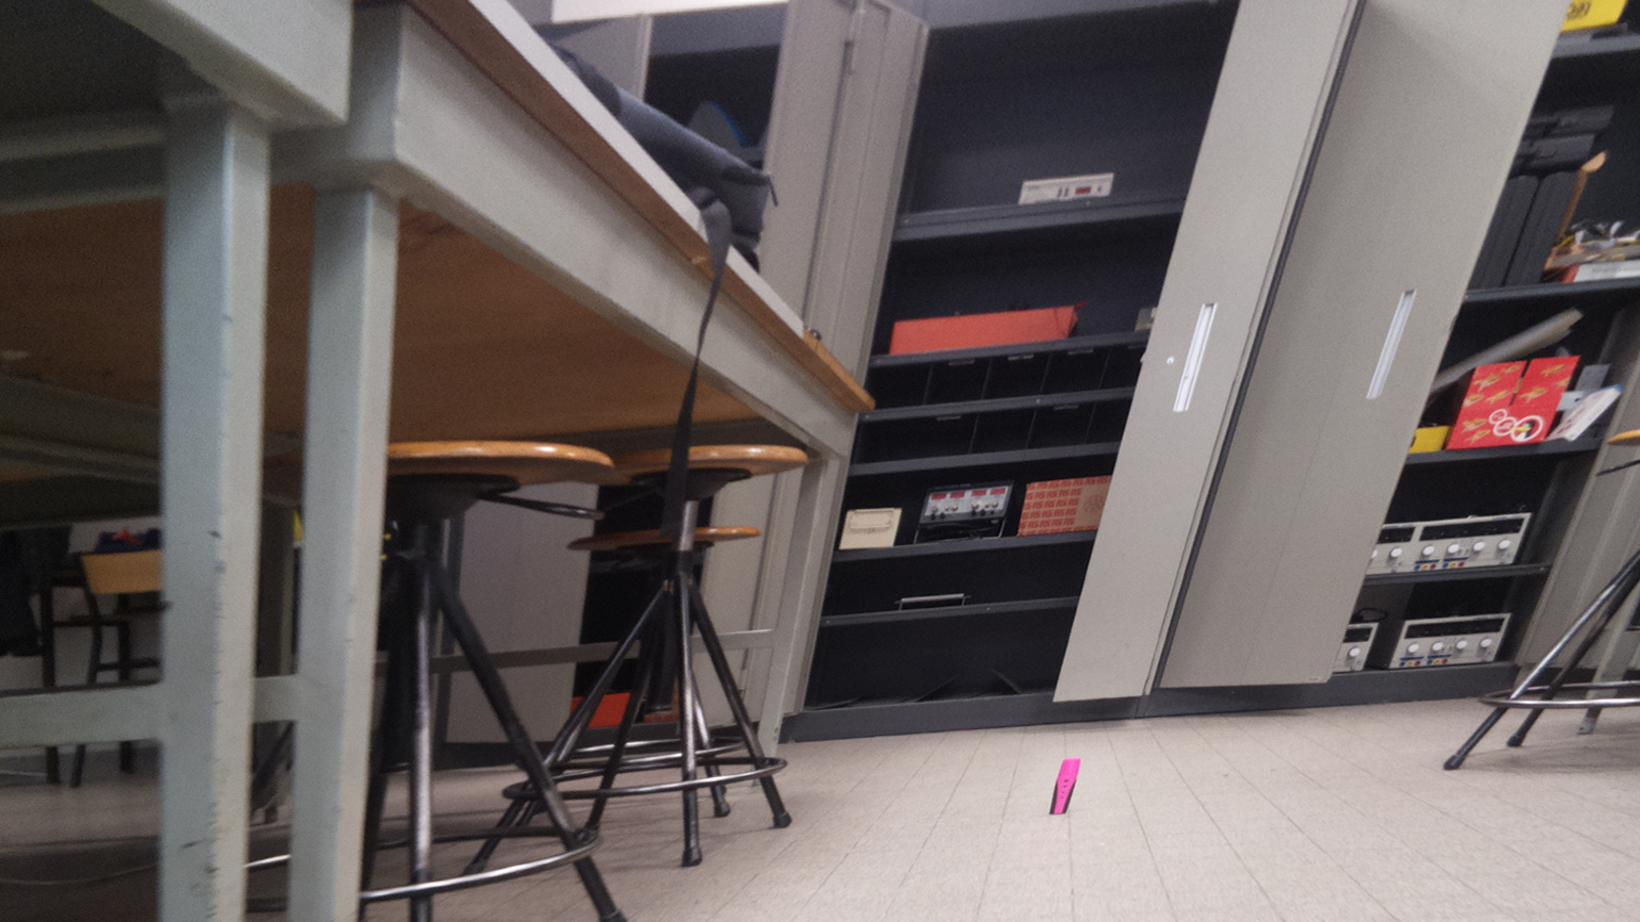small: (1045, 748, 1082, 818)
